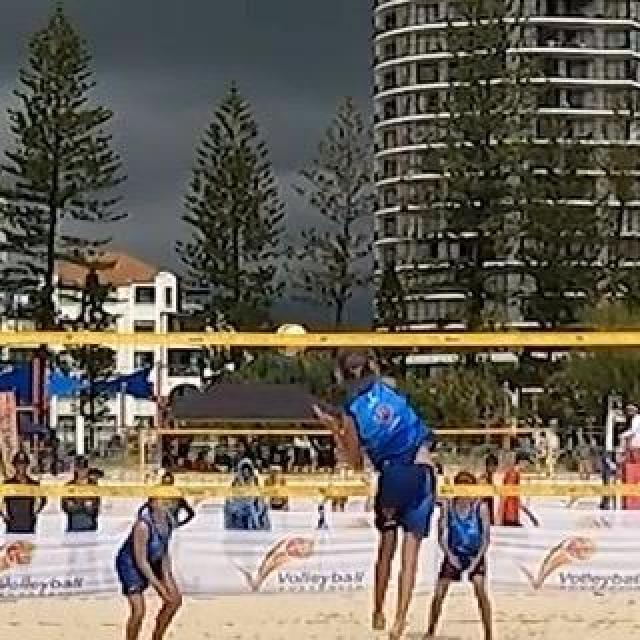volleyball: (275, 323, 309, 357)
